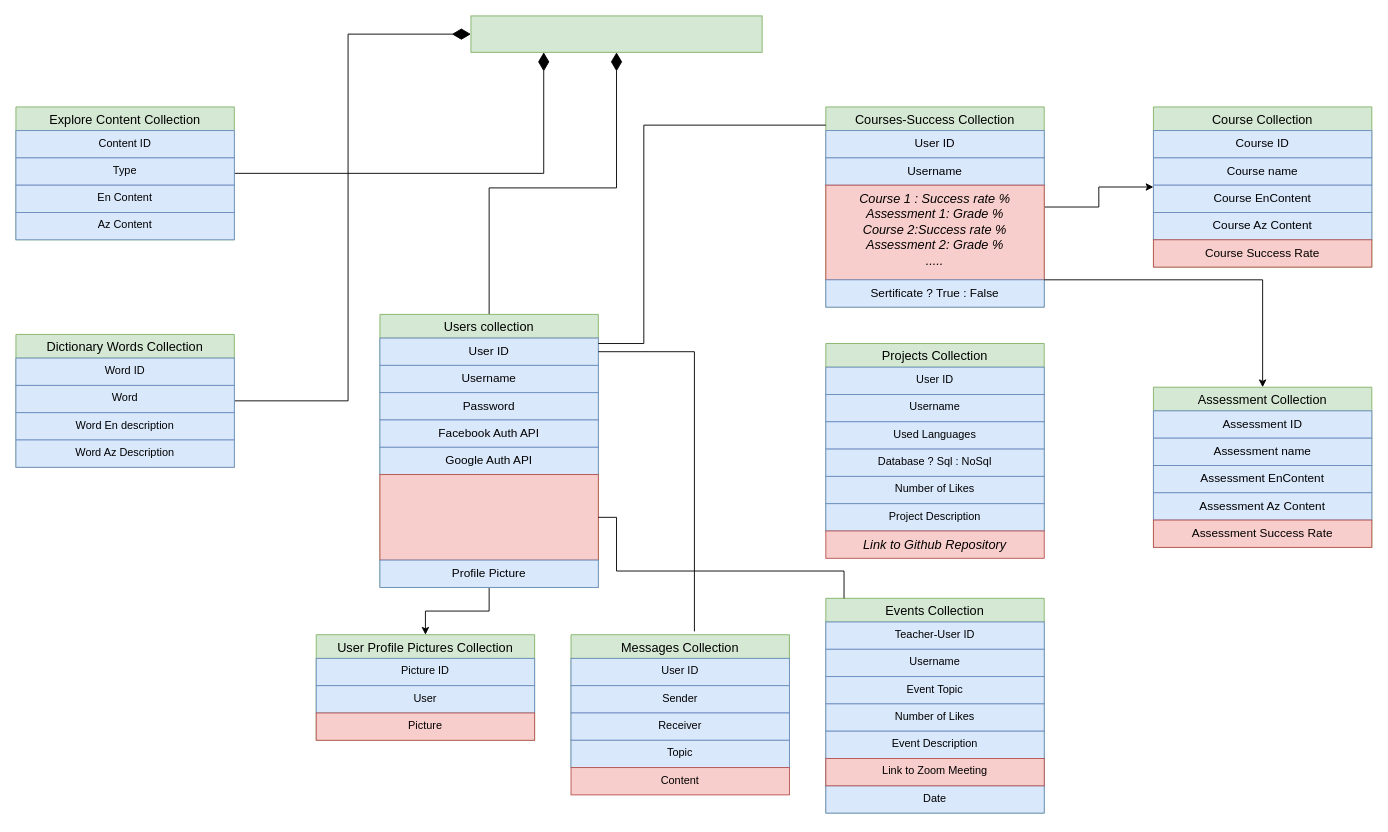
Some shapes in this 1388 by 832 pixel diagram are drawn without their labels. Each missing label, with the centre of its shape:
AZ-Developer DB: (x=616, y=33)
User type? Student :Teacher if Teacher :{ Events Collection Pointer}: (x=488, y=517)
